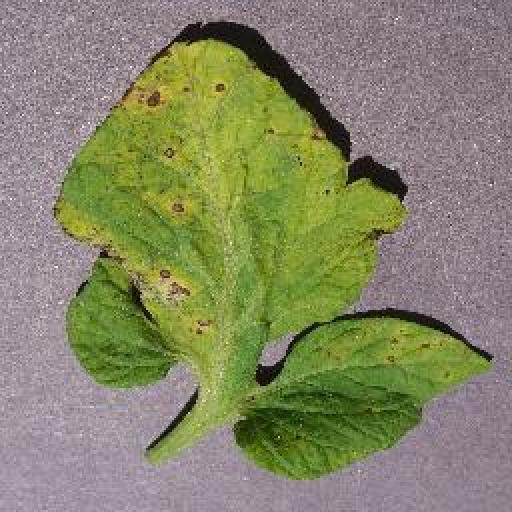Septoria: (56, 36, 491, 477)
